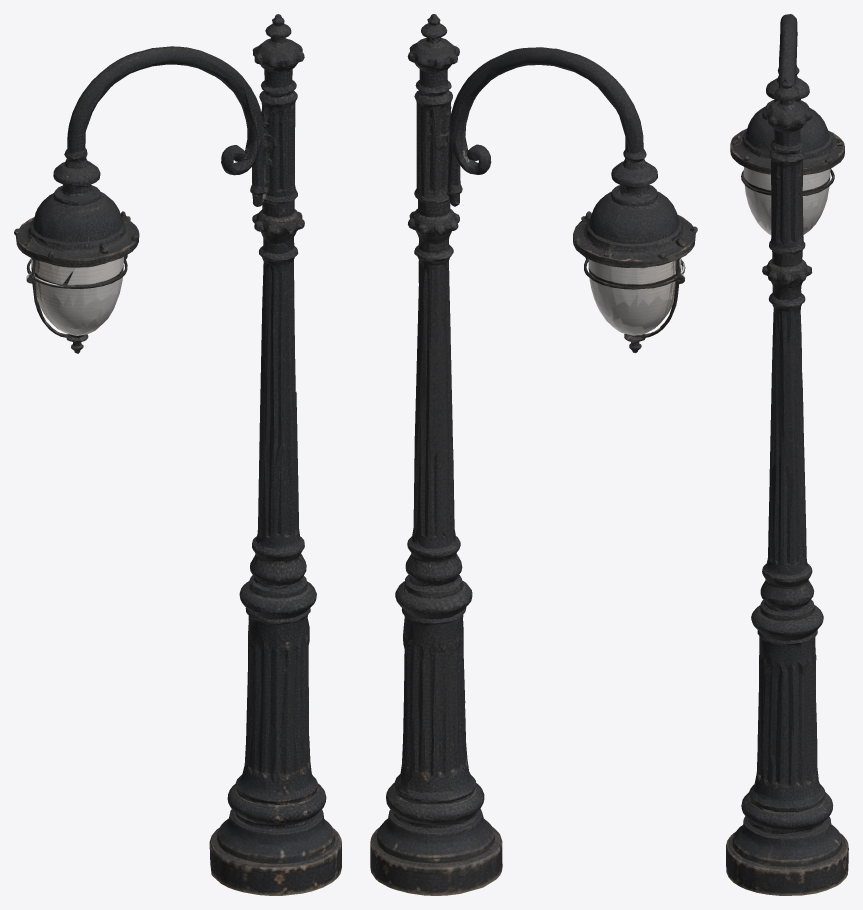
Rendered from street-lamp.glb.
3 renders of one model, left to right at view 1: azimuth 30°, elevation 25°; view 2: azimuth 150°, elevation 25°; view 3: azimuth 270°, elevation 25°, orthographic. The views are drawn at different scales.
Parts seen in each view (by area): view 1: Mesh_0; view 2: Mesh_0; view 3: Mesh_0.
Boxes of the visible parts, box(x1,y1,x2,y2) form: Mesh_0: box(14, 14, 341, 895); Mesh_0: box(370, 14, 697, 895); Mesh_0: box(726, 14, 848, 895).
Bounding box in the file's own units: 0.7199 × 1.9 × 0.2668.
1 material, 1 textured.
